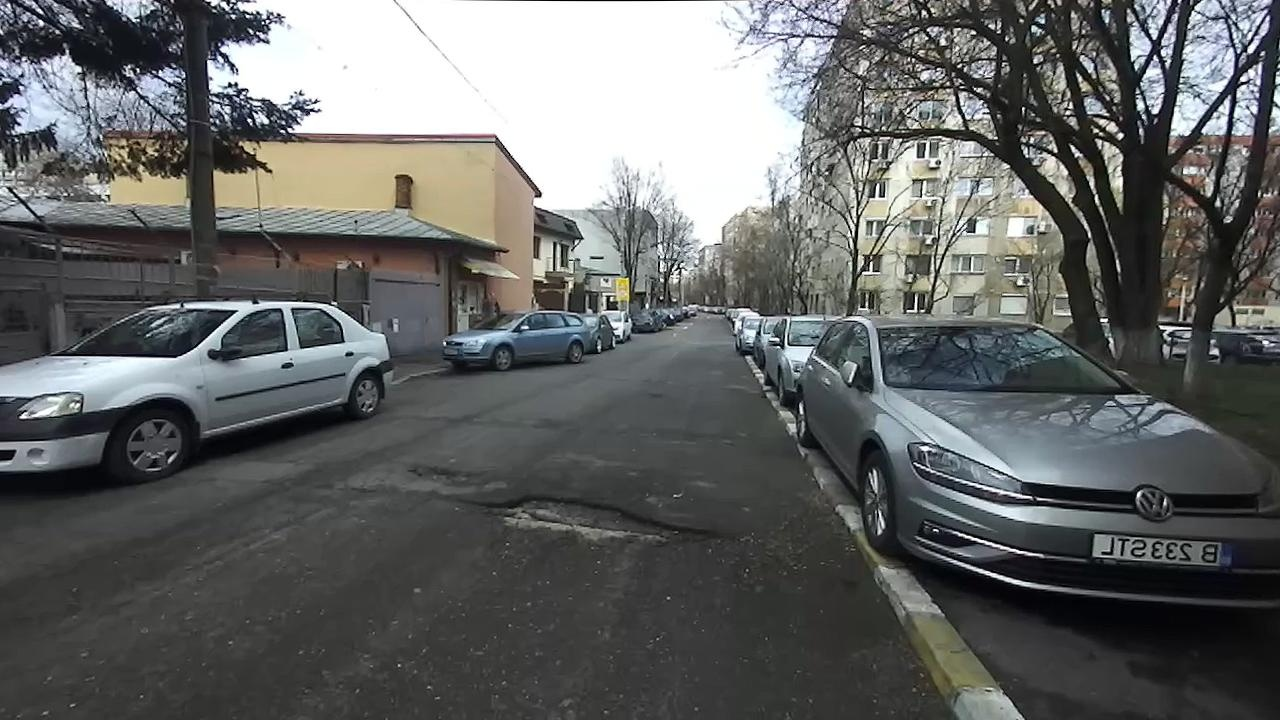pothole: (443, 492, 722, 550), (402, 458, 487, 482)
